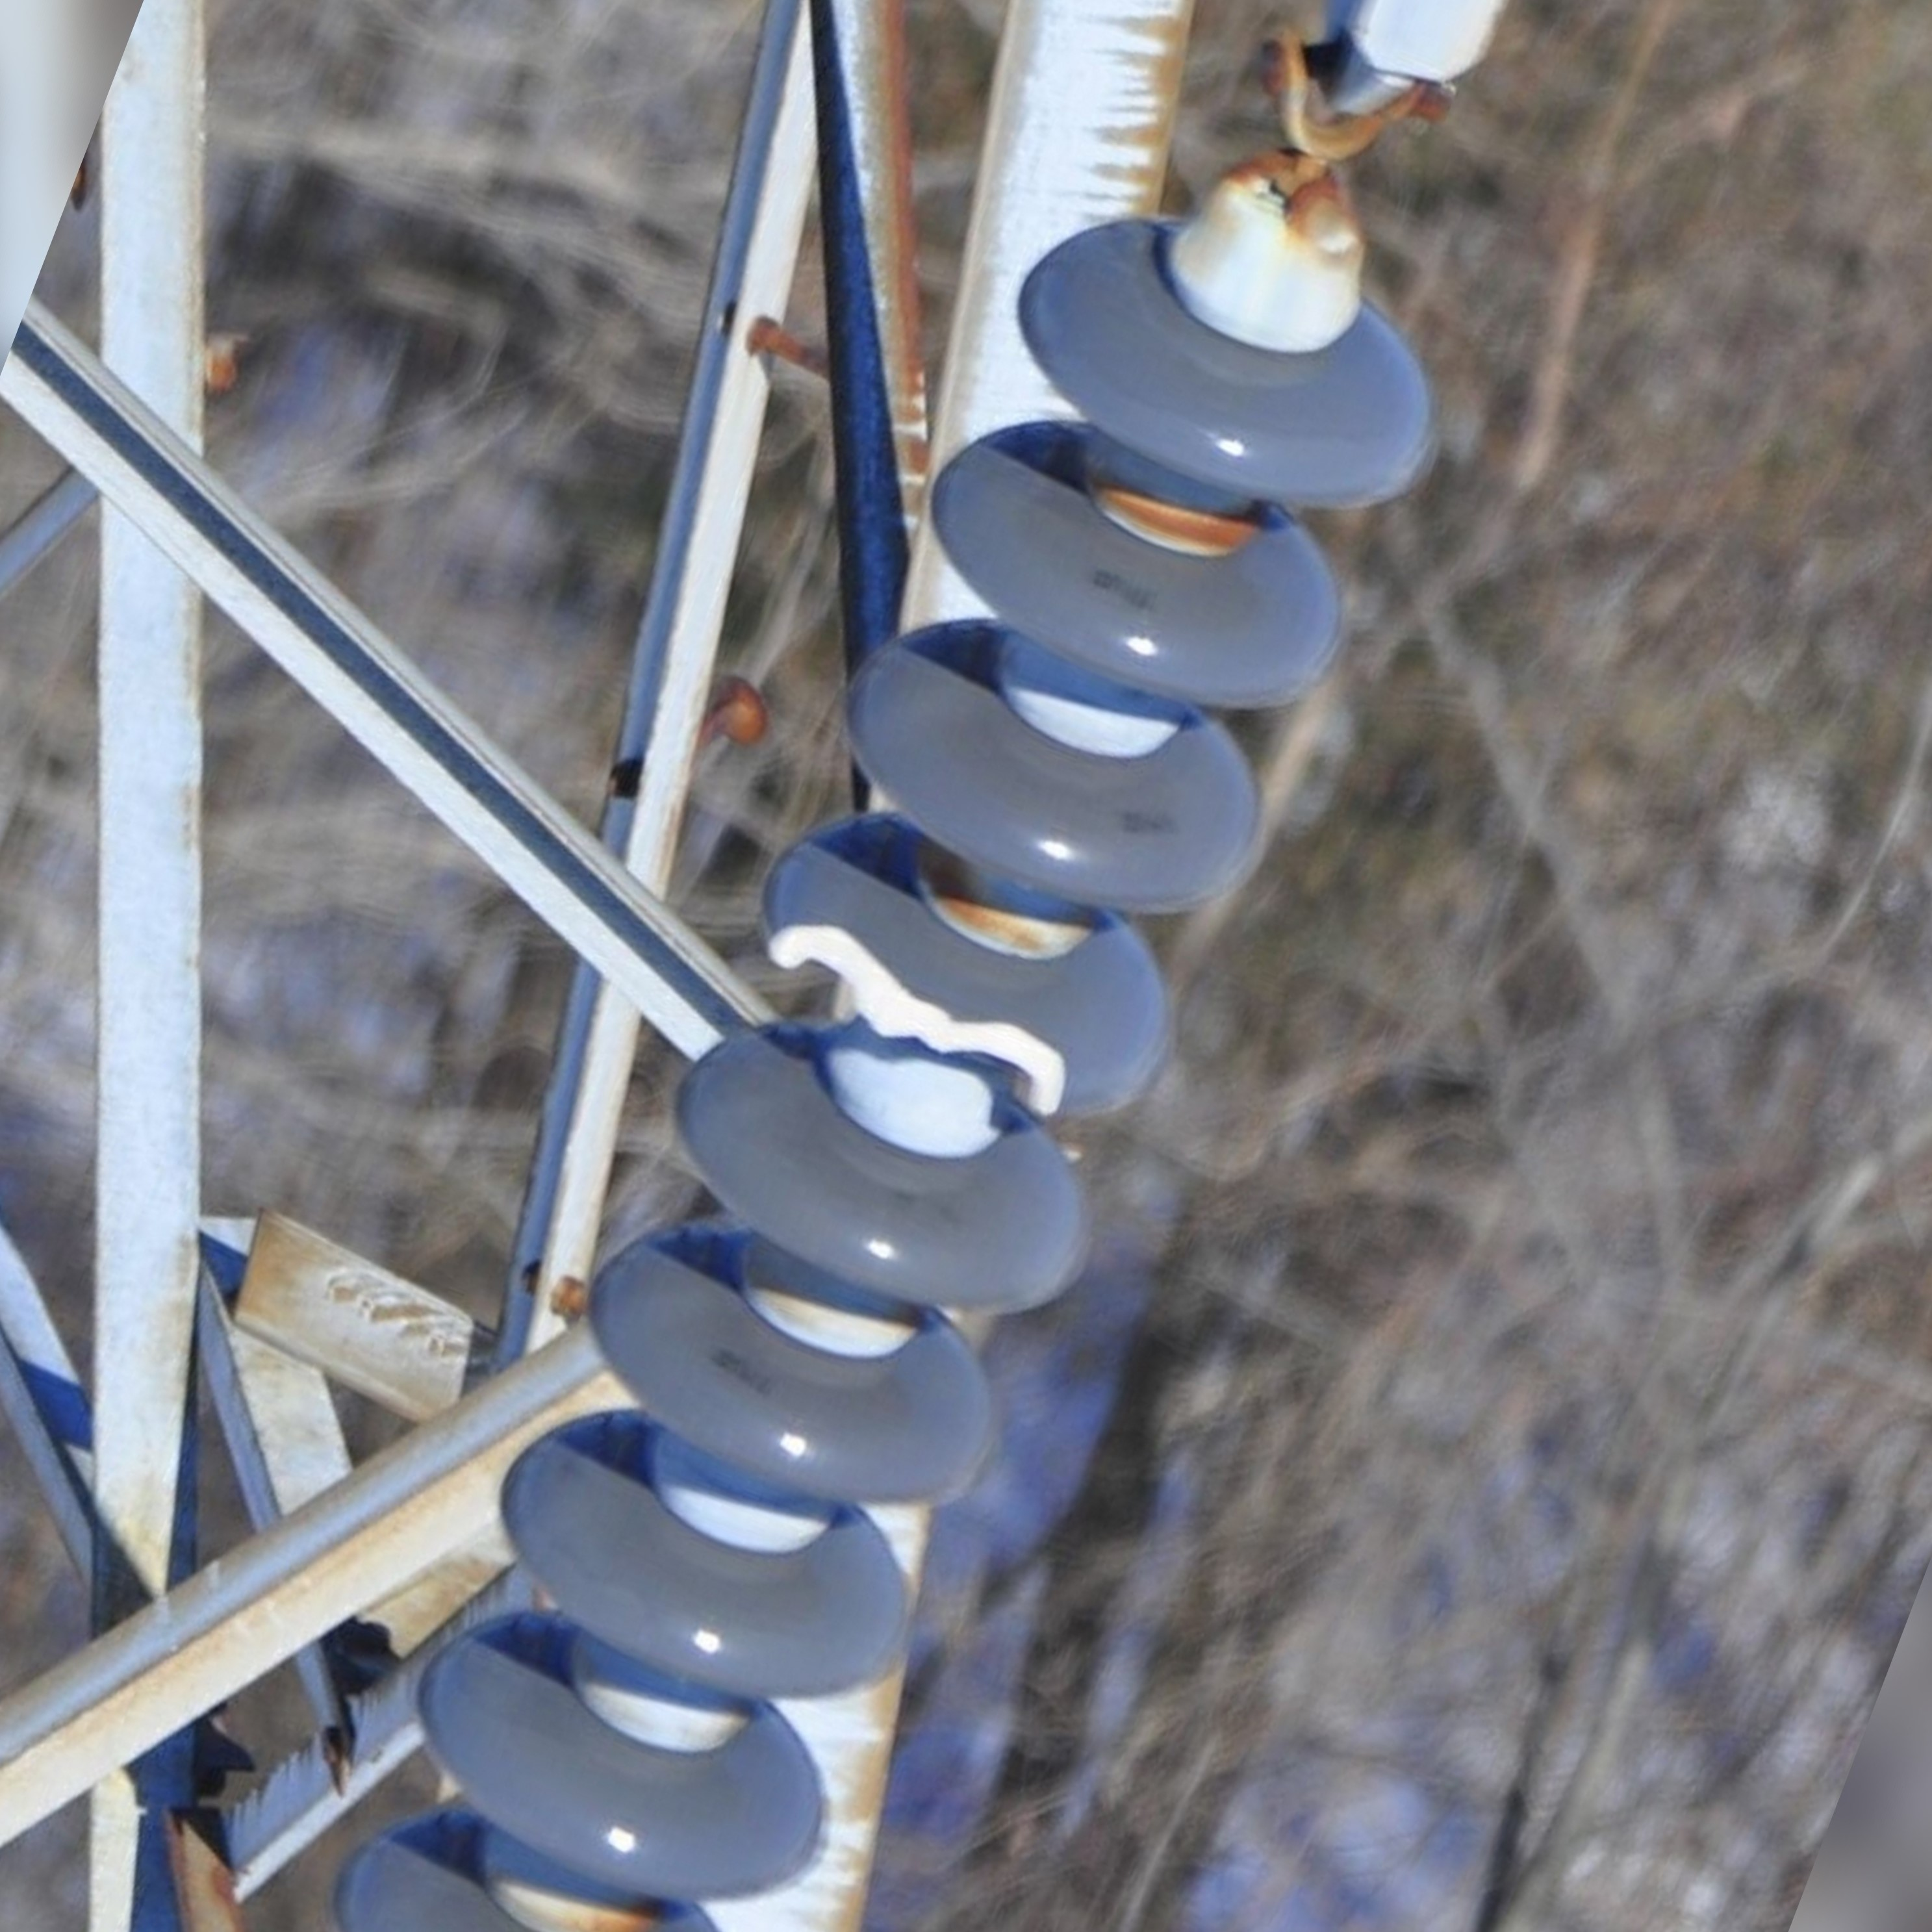insulator breakage: (734, 830, 1180, 1143)
